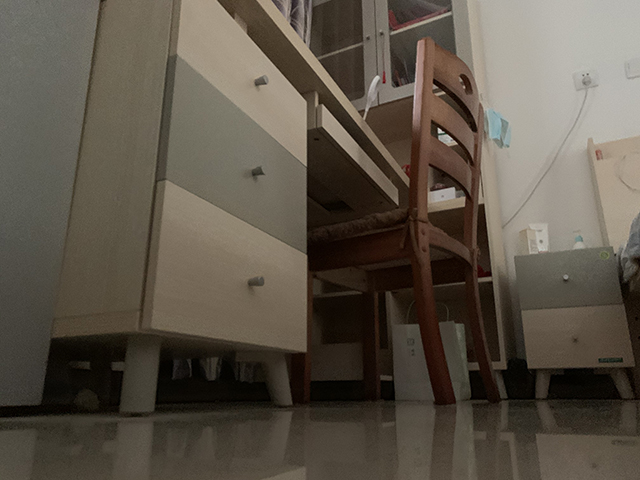cabinet: (512, 244, 638, 403)
stool: (300, 36, 503, 408)
table: (1, 1, 519, 414)
